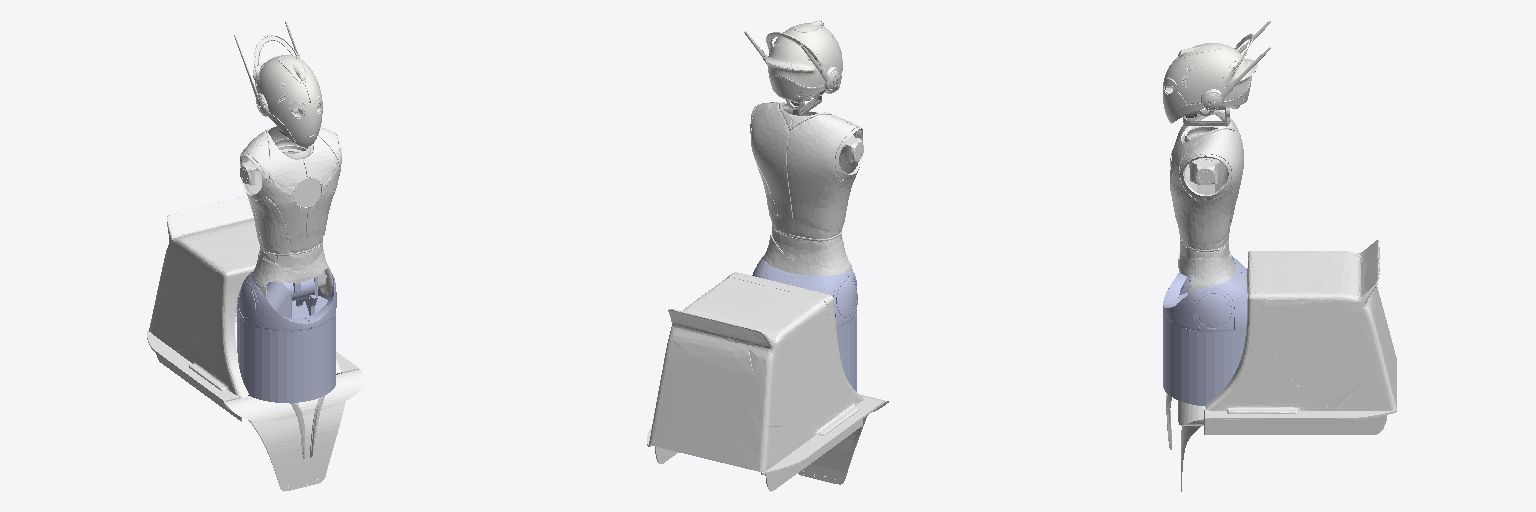
robot.urdf — avatar_r0_5:
<?xml version="1.0" encoding="utf-8"?>
<!-- This URDF was automatically created by SolidWorks to URDF Exporter! Originally created by [author] ([email redacted]) 
     Commit Version: 1.5.1-0-g916b5db  Build Version: 1.5.7152.31018
     For more information, please see http://wiki.ros.org/sw_urdf_exporter -->
<robot
  name="avatar_r0_5">
  <link
    name="base_link">
    <inertial>
      <origin
        xyz="-0.00059717 0.23425 0.23101"
        rpy="0 0 0" />
      <mass
        value="18.166" />
      <inertia
        ixx="0.27355"
        ixy="-3.5553E-08"
        ixz="1.7118E-08"
        iyy="0.032156"
        iyz="0.026709"
        izz="0.25168" />
    </inertial>
    <visual>
      <origin
        xyz="0 0 0"
        rpy="0 0 0" />
      <geometry>
        <mesh
          filename="package://avatar_r0_5/meshes/base_link.STL" />
      </geometry>
      <material
        name="">
        <color
          rgba="0.078431 0.078431 0.078431 1" />
      </material>
    </visual>
    <collision>
      <origin
        xyz="0 0 0"
        rpy="0 0 0" />
      <geometry>
        <mesh
          filename="package://avatar_r0_5/meshes/base_link.STL" />
      </geometry>
    </collision>
  </link>
  <link
    name="platform_link">
    <inertial>
      <origin
        xyz="-0.0019169 -0.019253 0.12225"
        rpy="0 0 0" />
      <mass
        value="5.2089" />
      <inertia
        ixx="0.097524"
        ixy="-0.0012534"
        ixz="0.0012359"
        iyy="0.12991"
        iyz="0.009425"
        izz="0.12902" />
    </inertial>
    <visual>
      <origin
        xyz="0 0 0"
        rpy="0 0 0" />
      <geometry>
        <mesh
          filename="package://avatar_r0_5/meshes/platform_link.STL" />
      </geometry>
      <material
        name="">
        <color
          rgba="0.96078 0.96078 0.96471 1" />
      </material>
    </visual>
    <collision>
      <origin
        xyz="0 0 0"
        rpy="0 0 0" />
      <geometry>
        <mesh
          filename="package://avatar_r0_5/meshes/platform_link.STL" />
      </geometry>
    </collision>
  </link>
  <joint
    name="base2platform"
    type="fixed">
    <origin
      xyz="-0.00064398 0.26937 0.44804"
      rpy="0 0 0" />
    <parent
      link="base_link" />
    <child
      link="platform_link" />
    <axis
      xyz="0 0 0" />
  </joint>
  <link
    name="waist_link">
    <inertial>
      <origin
        xyz="0.0018725 -0.0033609 0.1446"
        rpy="0 0 0" />
      <mass
        value="21.191" />
      <inertia
        ixx="0.19935"
        ixy="-1.3224E-06"
        ixz="0.00099714"
        iyy="0.2049"
        iyz="-0.00020488"
        izz="0.21829" />
    </inertial>
    <visual>
      <origin
        xyz="0 0 0"
        rpy="0 0 0" />
      <geometry>
        <mesh
          filename="package://avatar_r0_5/meshes/waist_link.STL" />
      </geometry>
      <material
        name="">
        <color
          rgba="0.79216 0.81961 0.93333 1" />
      </material>
    </visual>
    <collision>
      <origin
        xyz="0 0 0"
        rpy="0 0 0" />
      <geometry>
        <mesh
          filename="package://avatar_r0_5/meshes/waist_link.STL" />
      </geometry>
    </collision>
  </link>
  <!--joint
    name="waist_rot"
    type="revolute" -->
  <joint
    name="waist_rot"
    type="fixed">
    <origin
      xyz="0 -0.24 -1.325E-05"
      rpy="0 0 -1.5708" />
    <parent
      link="platform_link" />
    <child
      link="waist_link" />
    <axis
      xyz="0 0 -1" />
    <limit
      lower="-1"
      upper="1"
      effort="0"
      velocity="2" />
  </joint>
  <link
    name="chest_link">
    <inertial>
      <origin
        xyz="0.0372440537545067 0.11132546173049 0.0211577100485159"
        rpy="0 0 0" />
      <mass
        value="0.304842527068954" />
      <inertia
        ixx="0.000294481419363187"
        ixy="0.000242567817341944"
        ixz="-5.52363714472291E-07"
        iyy="0.00103928704482828"
        iyz="4.86582984793202E-06"
        izz="0.00120731891145862" />
    </inertial>
    <visual>
      <origin
        xyz="0 0 0"
        rpy="0 0 0" />
      <geometry>
        <mesh
          filename="package://avatar_r0_5/meshes/chest_link.STL" />
      </geometry>
      <material
        name="">
        <color
          rgba="0.956862745098039 0.96078431372549 0.964705882352941 1" />
      </material>
    </visual>
    <collision>
      <origin
        xyz="0 0 0"
        rpy="0 0 0" />
      <geometry>
        <mesh
          filename="package://avatar_r0_5/meshes/chest_link.STL" />
      </geometry>
    </collision>
  </link>
  <!--joint
    name="waist_tilt"
    type="revolute" -->
  <joint
    name="waist_tilt"
    type="fixed">
    <origin
      xyz="0.026019 0 0.336"
      rpy="1.5708 0 1.5708" />
    <parent
      link="waist_link" />
    <child
      link="chest_link" />
    <axis
      xyz="-1 0 0" />
    <limit
      lower="0"
      upper="1"
      effort="0"
      velocity="2" />
  </joint>
  <link
    name="r_should_axis_link">
    <inertial>
      <origin
        xyz="0.0271747977618289 -2.87714544225082E-05 0.0136872715581331"
        rpy="0 0 0" />
      <mass
        value="0.0760510742436307" />
      <inertia
        ixx="5.01097287434105E-05"
        ixy="3.09946970417366E-08"
        ixz="2.474321199555E-05"
        iyy="0.000103376219183421"
        iyz="1.77481964668466E-08"
        izz="0.000115998977330436" />
    </inertial>
    <visual>
      <origin
        xyz="0 0 0"
        rpy="0 0 0" />
      <geometry>
        <mesh
          filename="package://avatar_r0_5/meshes/r_should_axis_link.STL" />
      </geometry>
      <material
        name="">
        <color
          rgba="0.96078431372549 0.96078431372549 0.964705882352941 1" />
      </material>
    </visual>
    <collision>
      <origin
        xyz="0 0 0"
        rpy="0 0 0" />
      <geometry>
        <mesh
          filename="package://avatar_r0_5/meshes/r_should_axis_link.STL" />
      </geometry>
    </collision>
  </link>
  <joint
    name="r_should_rot"
    type="revolute">
    <origin
      xyz="-0.10061 0.416 0"
      rpy="1.5708 0 3.1416" />
    <parent
      link="chest_link" />
    <child
      link="r_should_axis_link" />
    <axis
      xyz="0 0 -1" />
    <limit
      lower="-1"
      upper="1"
      effort="0"
      velocity="2" />
  </joint>
  <link
    name="r_interface_link">
  </link>
  <joint
    name="r_rot2int"
    type="fixed">
    <origin
      xyz="0.065 0 0"
      rpy="0 -1.5708 0" />
    <parent
      link="r_should_axis_link" />
    <child
      link="r_interface_link" />
    <axis
      xyz="0 0 0" />
  </joint>
  <link
    name="l_should_axis_link">
    <inertial>
      <origin
        xyz="0.0271746660088268 -7.81820416141978E-05 0.0136872746188932"
        rpy="0 0 0" />
      <mass
        value="0.0760509825087617" />
      <inertia
        ixx="5.01100039793683E-05"
        ixy="1.27864503626856E-07"
        ixz="2.47431993244341E-05"
        iyy="0.000103375868748006"
        iyz="-2.72311343991148E-08"
        izz="0.000115998907803854" />
    </inertial>
    <visual>
      <origin
        xyz="0 0 0"
        rpy="0 0 0" />
      <geometry>
        <mesh
          filename="package://avatar_r0_5/meshes/l_should_axis_link.STL" />
      </geometry>
      <material
        name="">
        <color
          rgba="0.96078431372549 0.96078431372549 0.964705882352941 1" />
      </material>
    </visual>
    <collision>
      <origin
        xyz="0 0 0"
        rpy="0 0 0" />
      <geometry>
        <mesh
          filename="package://avatar_r0_5/meshes/l_should_axis_link.STL" />
      </geometry>
    </collision>
  </link>
  <joint
    name="l_should_rot"
    type="revolute">
    <origin
      xyz="0.10061 0.416 0"
      rpy="-1.5708 0 0" />
    <parent
      link="chest_link" />
    <child
      link="l_should_axis_link" />
    <axis
      xyz="0 0 -1" />
    <limit
      lower="-1"
      upper="1"
      effort="0"
      velocity="2" />
  </joint>
  <link
    name="l_interface_link">
  </link>
  <joint
    name="l_rot2int"
    type="fixed">
    <origin
      xyz="0.065 0 0"
      rpy="0 -1.5708 0" />
    <parent
      link="l_should_axis_link" />
    <child
      link="l_interface_link" />
    <axis
      xyz="0 0 0" />
  </joint>
  <link
    name="neck_link">
    <inertial>
      <origin
        xyz="0.00254198003148301 -0.0042899348435868 0.0597355945693789"
        rpy="0 0 0" />
      <mass
        value="0.226156386299716" />
      <inertia
        ixx="0.000298264432447616"
        ixy="-8.6285503781533E-08"
        ixz="-2.54208064471585E-05"
        iyy="0.000445729865029852"
        iyz="3.08030083027245E-06"
        izz="0.000263681814976853" />
    </inertial>
    <visual>
      <origin
        xyz="0 0 0"
        rpy="0 0 0" />
      <geometry>
        <mesh
          filename="package://avatar_r0_5/meshes/neck_link.STL" />
      </geometry>
      <material
        name="">
        <color
          rgba="0.964705882352941 0.964705882352941 0.952941176470588 1" />
      </material>
    </visual>
    <collision>
      <origin
        xyz="0 0 0"
        rpy="0 0 0" />
      <geometry>
        <mesh
          filename="package://avatar_r0_5/meshes/neck_link.STL" />
      </geometry>
    </collision>
  </link>
  <joint
    name="head_roll"
    type="revolute">
    <origin
      xyz="0 0.46811 0"
      rpy="1.5708 -1.5708 0" />
    <parent
      link="chest_link" />
    <child
      link="neck_link" />
    <axis
      xyz="0 0 -1" />
    <limit
      lower="-1"
      upper="1"
      effort="0"
      velocity="2" />
  </joint>
  <link
    name="int_neck_link">
    <inertial>
      <origin
        xyz="0.00446725260220915 -0.0183808549428746 0.0300851016361073"
        rpy="0 0 0" />
      <mass
        value="0.114056596786427" />
      <inertia
        ixx="0.00012606821774216"
        ixy="2.28265988902673E-05"
        ixz="-7.8541837751612E-10"
        iyy="7.66886412489432E-05"
        iyz="8.94077252626148E-07"
        izz="0.000161197943235499" />
    </inertial>
    <visual>
      <origin
        xyz="0 0 0"
        rpy="0 0 0" />
      <geometry>
        <mesh
          filename="package://avatar_r0_5/meshes/int_neck_link.STL" />
      </geometry>
      <material
        name="">
        <color
          rgba="0.627450980392157 0.627450980392157 0.627450980392157 1" />
      </material>
    </visual>
    <collision>
      <origin
        xyz="0 0 0"
        rpy="0 0 0" />
      <geometry>
        <mesh
          filename="package://avatar_r0_5/meshes/int_neck_link.STL" />
      </geometry>
    </collision>
  </link>
  <joint
    name="head_pitch"
    type="revolute">
    <origin
      xyz="0 0.03 -0.092793"
      rpy="1.5708 -1.5708 0" />
    <parent
      link="neck_link" />
    <child
      link="int_neck_link" />
    <axis
      xyz="0 0 -1" />
    <limit
      lower="-1"
      upper="1"
      effort="0"
      velocity="2" />
  </joint>
  <link
    name="head_link">
    <inertial>
      <origin
        xyz="-0.00034972360416687 0.100321708327407 0.0462704493794094"
        rpy="0 0 0" />
      <mass
        value="0.984338424422936" />
      <inertia
        ixx="0.00909196152115448"
        ixy="1.96099549660613E-05"
        ixz="-7.54355391932556E-05"
        iyy="0.00887552436672255"
        iyz="0.00107906657883322"
        izz="0.0058997338915657" />
    </inertial>
    <visual>
      <origin
        xyz="0 0 0"
        rpy="0 0 0" />
      <geometry>
        <mesh
          filename="package://avatar_r0_5/meshes/head_link.STL" />
      </geometry>
      <material
        name="">
        <color
          rgba="0.964705882352941 0.964705882352941 0.952941176470588 1" />
      </material>
    </visual>
    <collision>
      <origin
        xyz="0 0 0"
        rpy="0 0 0" />
      <geometry>
        <mesh
          filename="package://avatar_r0_5/meshes/head_link.STL" />
      </geometry>
    </collision>
  </link>
  <joint
    name="head_yaw"
    type="revolute">
    <origin
      xyz="0 0.0583 0.03"
      rpy="1.5708 -1.5708 0" />
    <parent
      link="int_neck_link" />
    <child
      link="head_link" />
    <axis
      xyz="0 0 -1" />
    <limit
      lower="-1"
      upper="1"
      effort="0"
      velocity="2" />
  </joint>
</robot>

--- Render facts (derived) ---
Views: 3 orthographic renders of the robot side by side, from view 1: azimuth 30°, elevation 25°; view 2: azimuth 150°, elevation 25°; view 3: azimuth 270°, elevation 25°.
Model avatar_r0_5 with 11 links and 10 joints (5 revolute, 5 fixed), rooted at base_link, posed all joints at 0.
Visible links, largest first — view 1: platform_link, chest_link, waist_link, head_link; view 2: platform_link, chest_link, head_link, waist_link; view 3: platform_link, waist_link, chest_link, head_link, l_should_axis_link.
Link boxes in pixels (<box>): platform_link: <box>147,196,364,491</box>; chest_link: <box>240,125,341,297</box>; waist_link: <box>237,270,336,402</box>; head_link: <box>234,21,322,146</box>; platform_link: <box>647,272,888,491</box>; chest_link: <box>750,102,862,275</box>; head_link: <box>744,20,842,109</box>; waist_link: <box>752,256,857,391</box>; platform_link: <box>1166,240,1396,491</box>; waist_link: <box>1163,255,1247,405</box>; chest_link: <box>1170,110,1243,293</box>; head_link: <box>1163,21,1270,123</box>; l_should_axis_link: <box>1191,158,1220,184</box>.
Size in the robot's own frame: 0.4807 by 0.6901 by 1.46 metres.
Meshes: 9 distinct files referenced, 8 mesh visuals loaded (8 binary STL); not drawn: 1 (reference not matched to a file when rendering).
